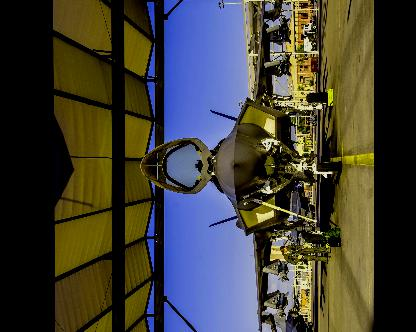F14: (256, 286, 313, 331), (282, 180, 314, 246), (300, 284, 308, 298), (300, 310, 308, 322)
F22: (139, 0, 342, 331)
